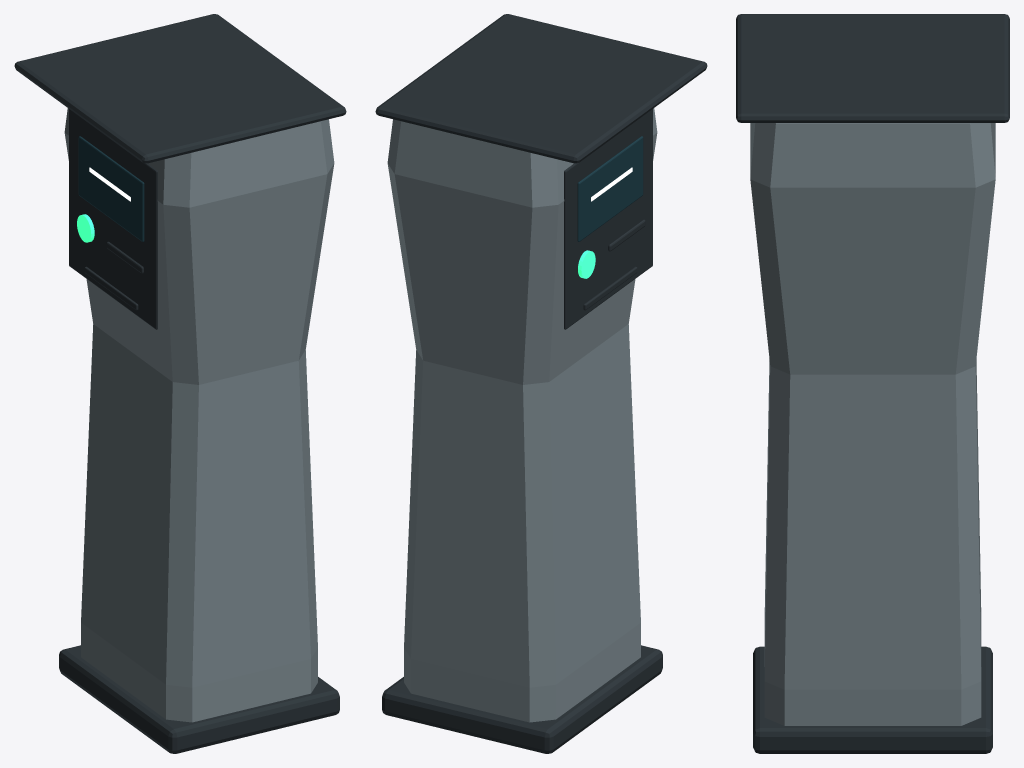
The model's file is SIMUS_Parking_TicketMachine.fbx.
3 renders of one model, left to right at view 1: azimuth 30°, elevation 25°; view 2: azimuth 150°, elevation 25°; view 3: azimuth 270°, elevation 25°, orthographic. The views are drawn at different scales.
Parts seen in each view (by area): view 1: COL_TICKET_Housing, TICKET_Housing, TICKET_RainLip, TICKET_ControlRecess, TICKET_Foot, TICKET_Display; view 2: COL_TICKET_Housing, TICKET_Housing, TICKET_RainLip, TICKET_ControlRecess, TICKET_Foot, TICKET_Display; view 3: COL_TICKET_Housing, TICKET_Housing, TICKET_RainLip, TICKET_Foot.
Boxes of the visible parts, x1=… form: COL_TICKET_Housing: x1=64, y1=108, x2=334, y2=722; TICKET_Housing: x1=68, y1=115, x2=331, y2=721; TICKET_RainLip: x1=14, y1=14, x2=346, y2=163; TICKET_ControlRecess: x1=69, y1=109, x2=157, y2=329; TICKET_Foot: x1=59, y1=645, x2=339, y2=753; TICKET_Display: x1=78, y1=136, x2=144, y2=241; COL_TICKET_Housing: x1=387, y1=108, x2=657, y2=722; TICKET_Housing: x1=388, y1=122, x2=639, y2=721; TICKET_RainLip: x1=375, y1=14, x2=707, y2=163; TICKET_ControlRecess: x1=564, y1=109, x2=652, y2=329; TICKET_Foot: x1=382, y1=645, x2=662, y2=753; TICKET_Display: x1=577, y1=136, x2=643, y2=241; COL_TICKET_Housing: x1=750, y1=123, x2=995, y2=725; TICKET_Housing: x1=750, y1=123, x2=993, y2=725; TICKET_RainLip: x1=736, y1=14, x2=1009, y2=122; TICKET_Foot: x1=753, y1=646, x2=992, y2=753.
Size of the model in its own units: 43.5 by 124 by 48.
